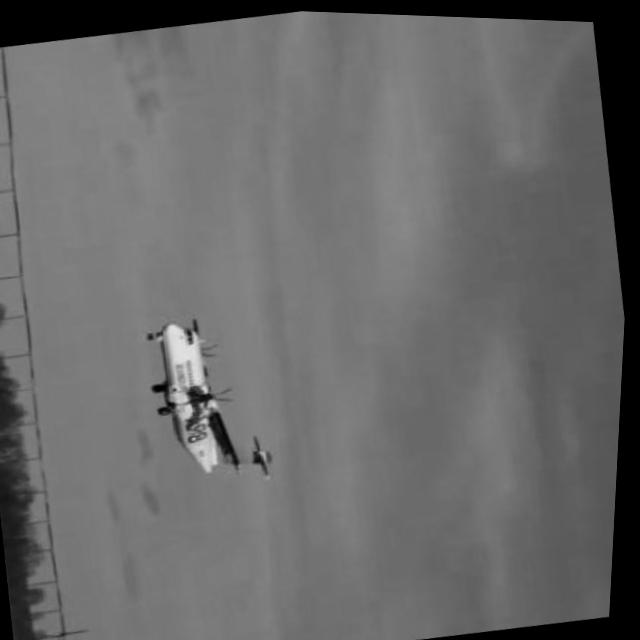aeroplane: (140, 301, 286, 489)
